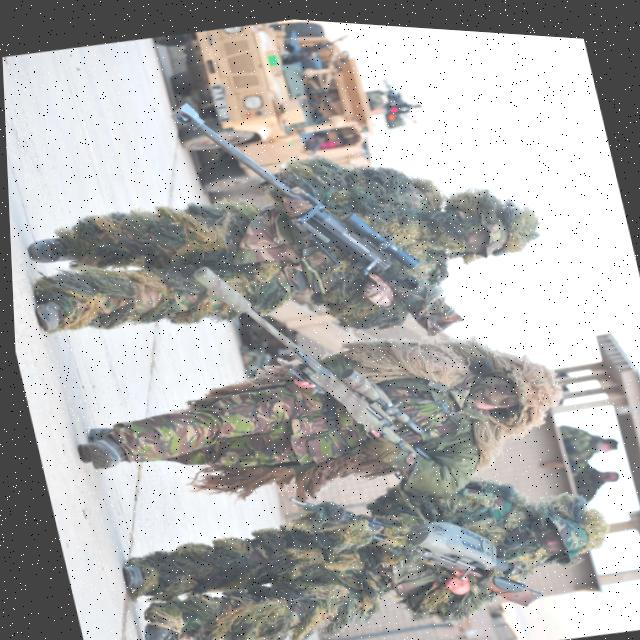firearm: (163, 54, 467, 373), (187, 226, 432, 491), (280, 446, 543, 640)
